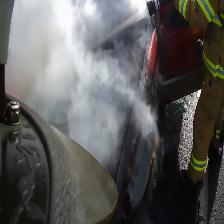smoke: (6, 0, 175, 178)
